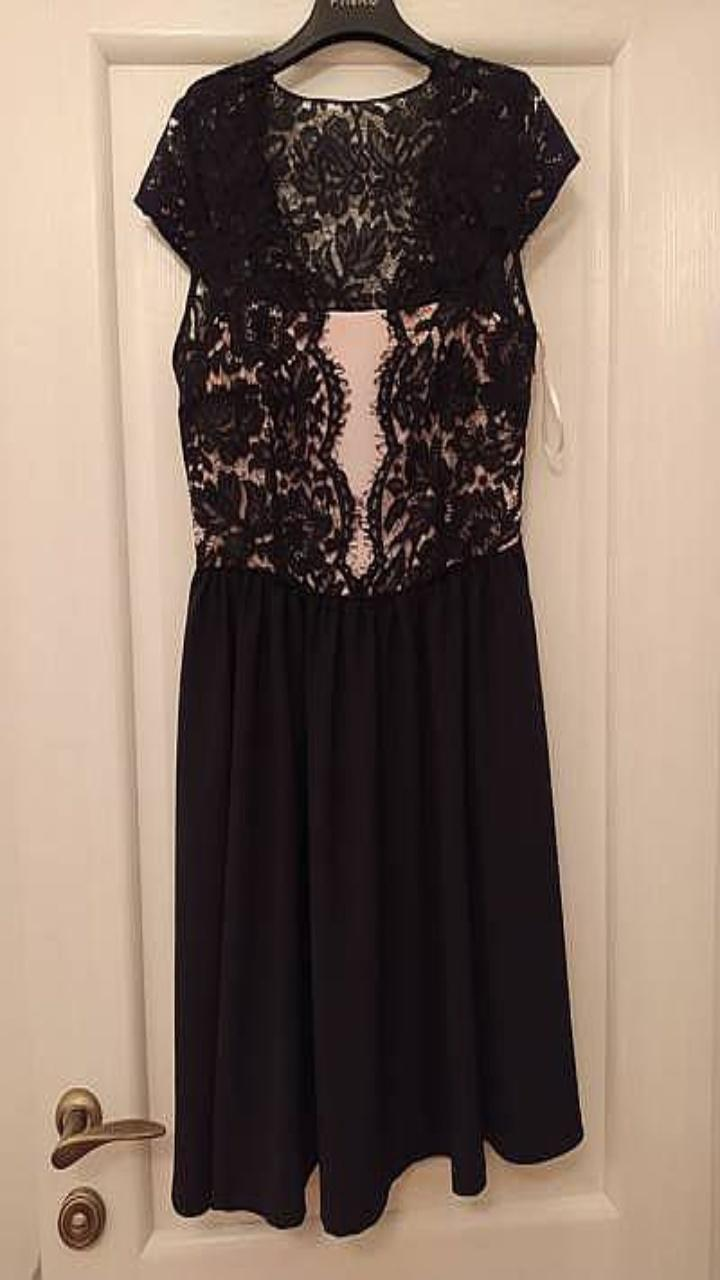Dresses: (134, 46, 582, 1234)
